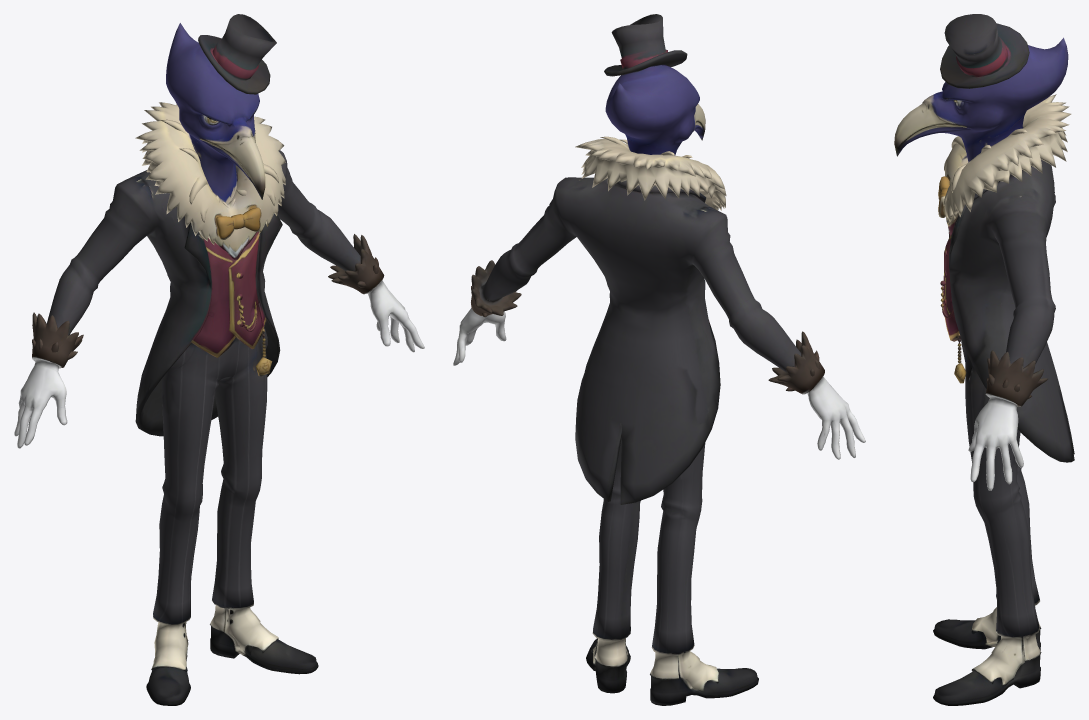
Rendered from guet_v1.glb.
3 renders of one model, left to right at view 1: azimuth 30°, elevation 25°; view 2: azimuth 150°, elevation 25°; view 3: azimuth 270°, elevation 25°, orthographic.
Visible parts, largest first — view 1: guet_v1; view 2: guet_v1; view 3: guet_v1.
Boxes of the visible parts, bbox=[...] form: guet_v1: bbox=[14, 14, 424, 705]; guet_v1: bbox=[453, 14, 865, 705]; guet_v1: bbox=[894, 14, 1074, 705].
Bounding box in the file's own units: 0.644 × 0.9995 × 0.2485.
Materials: 1 (1 with a texture image).
